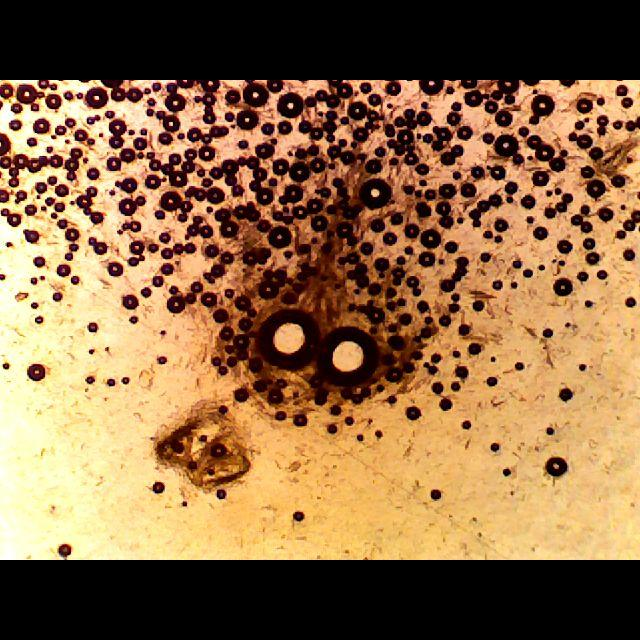microbeads: (318, 322, 382, 392), (256, 309, 320, 375), (358, 177, 392, 213), (276, 84, 308, 116), (84, 84, 114, 110), (494, 132, 520, 160), (544, 454, 568, 480), (267, 226, 293, 248), (348, 99, 368, 121), (552, 278, 572, 298), (27, 364, 46, 384)
